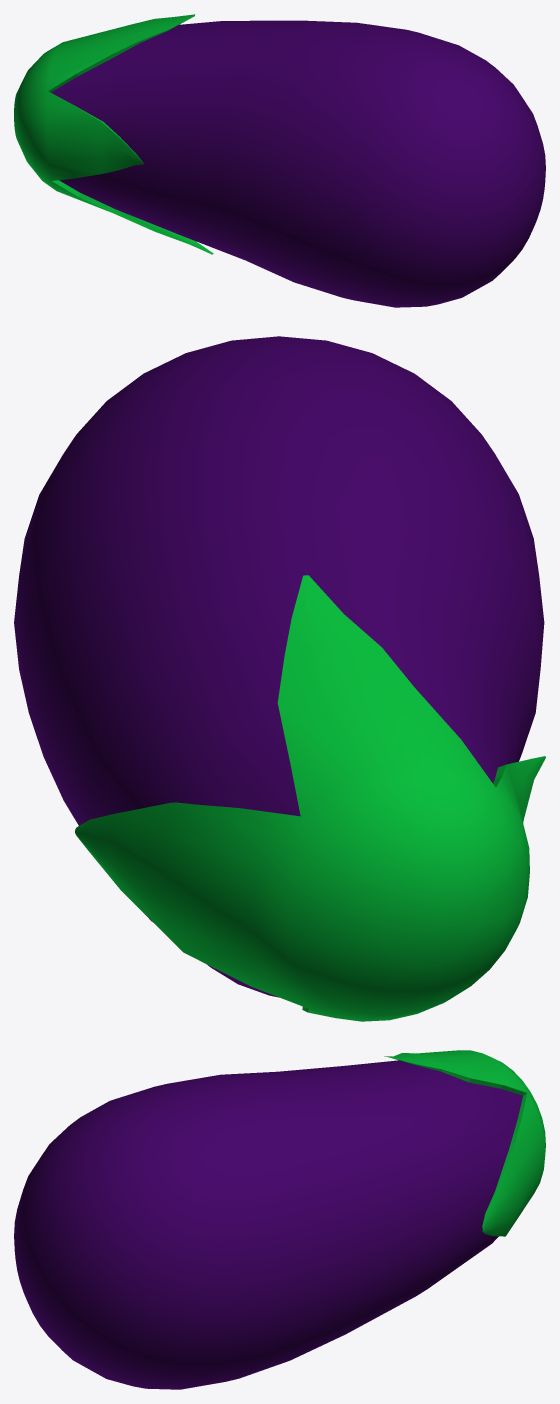
3 views of the same model, one above another, from view 1: azimuth 30°, elevation 25°; view 2: azimuth 150°, elevation 25°; view 3: azimuth 270°, elevation 25° (orthographic). The views are drawn at different scales.
Visible parts, largest first — view 1: baklazhan; view 2: baklazhan; view 3: baklazhan.
Boxes of the visible parts, x1,y1,x2,y2 form: baklazhan: (14, 14, 545, 307); baklazhan: (14, 336, 545, 1021); baklazhan: (14, 1050, 545, 1389).
Size of the model in its own units: 66.87 by 43.14 by 75.25.
